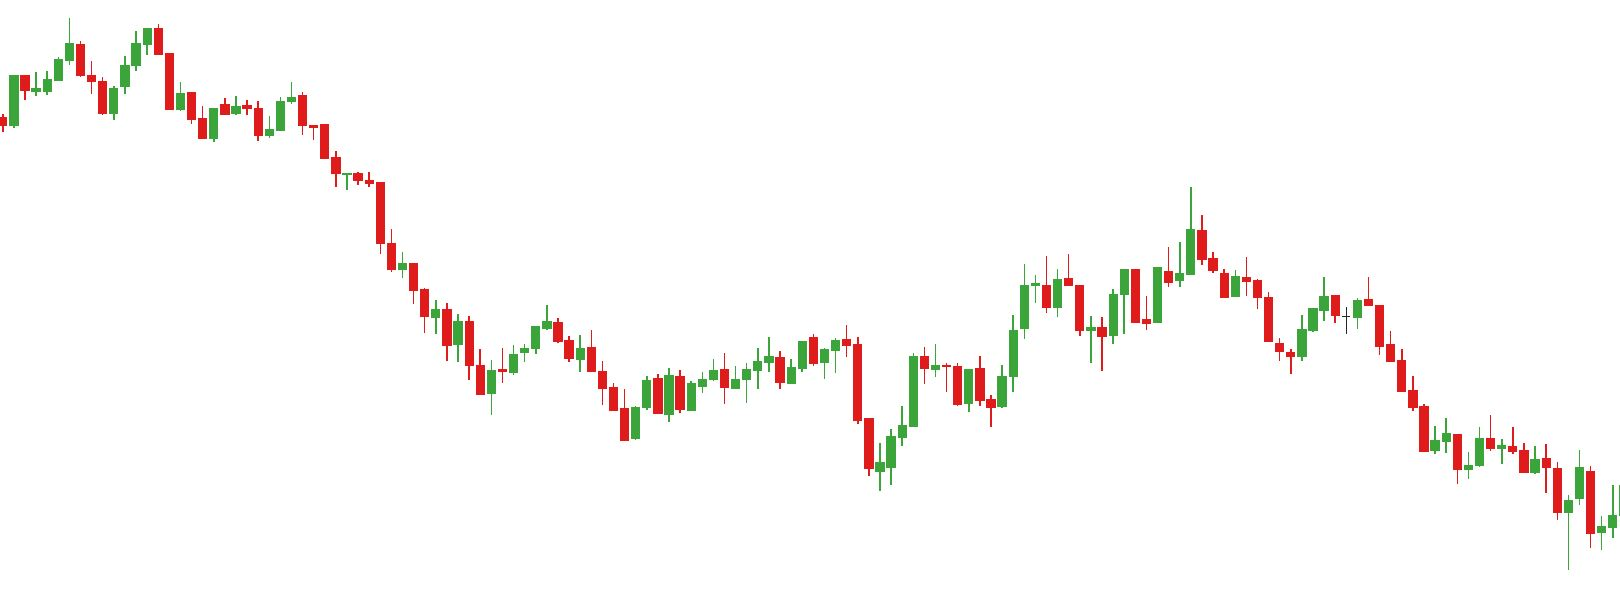sell: (219, 79, 310, 124)
